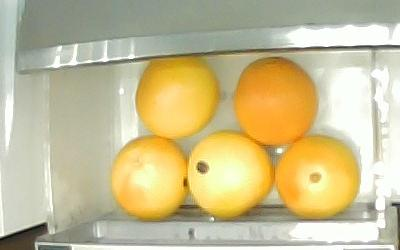grapefruit: (186, 129, 274, 218), (232, 55, 318, 146), (273, 134, 360, 219), (134, 59, 219, 139), (110, 134, 189, 219)
